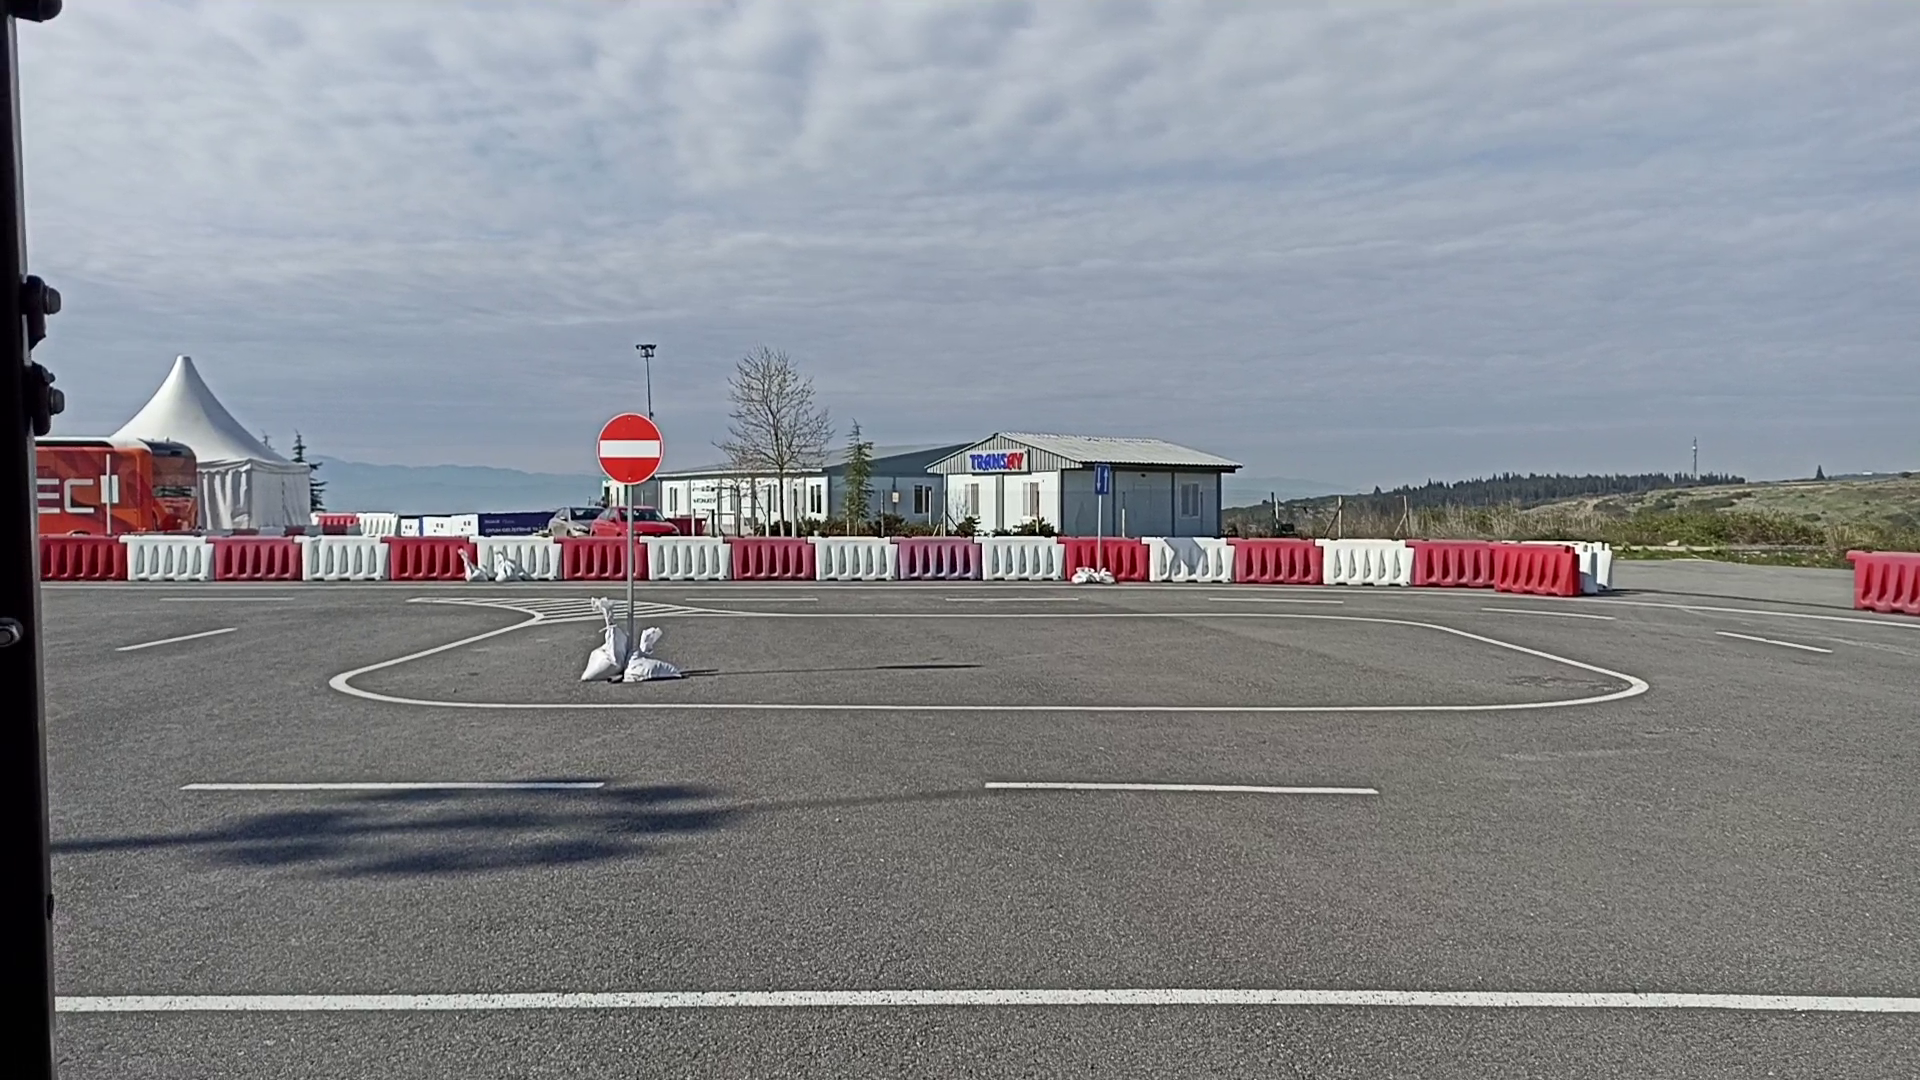noentryway: (596, 410, 666, 487)
